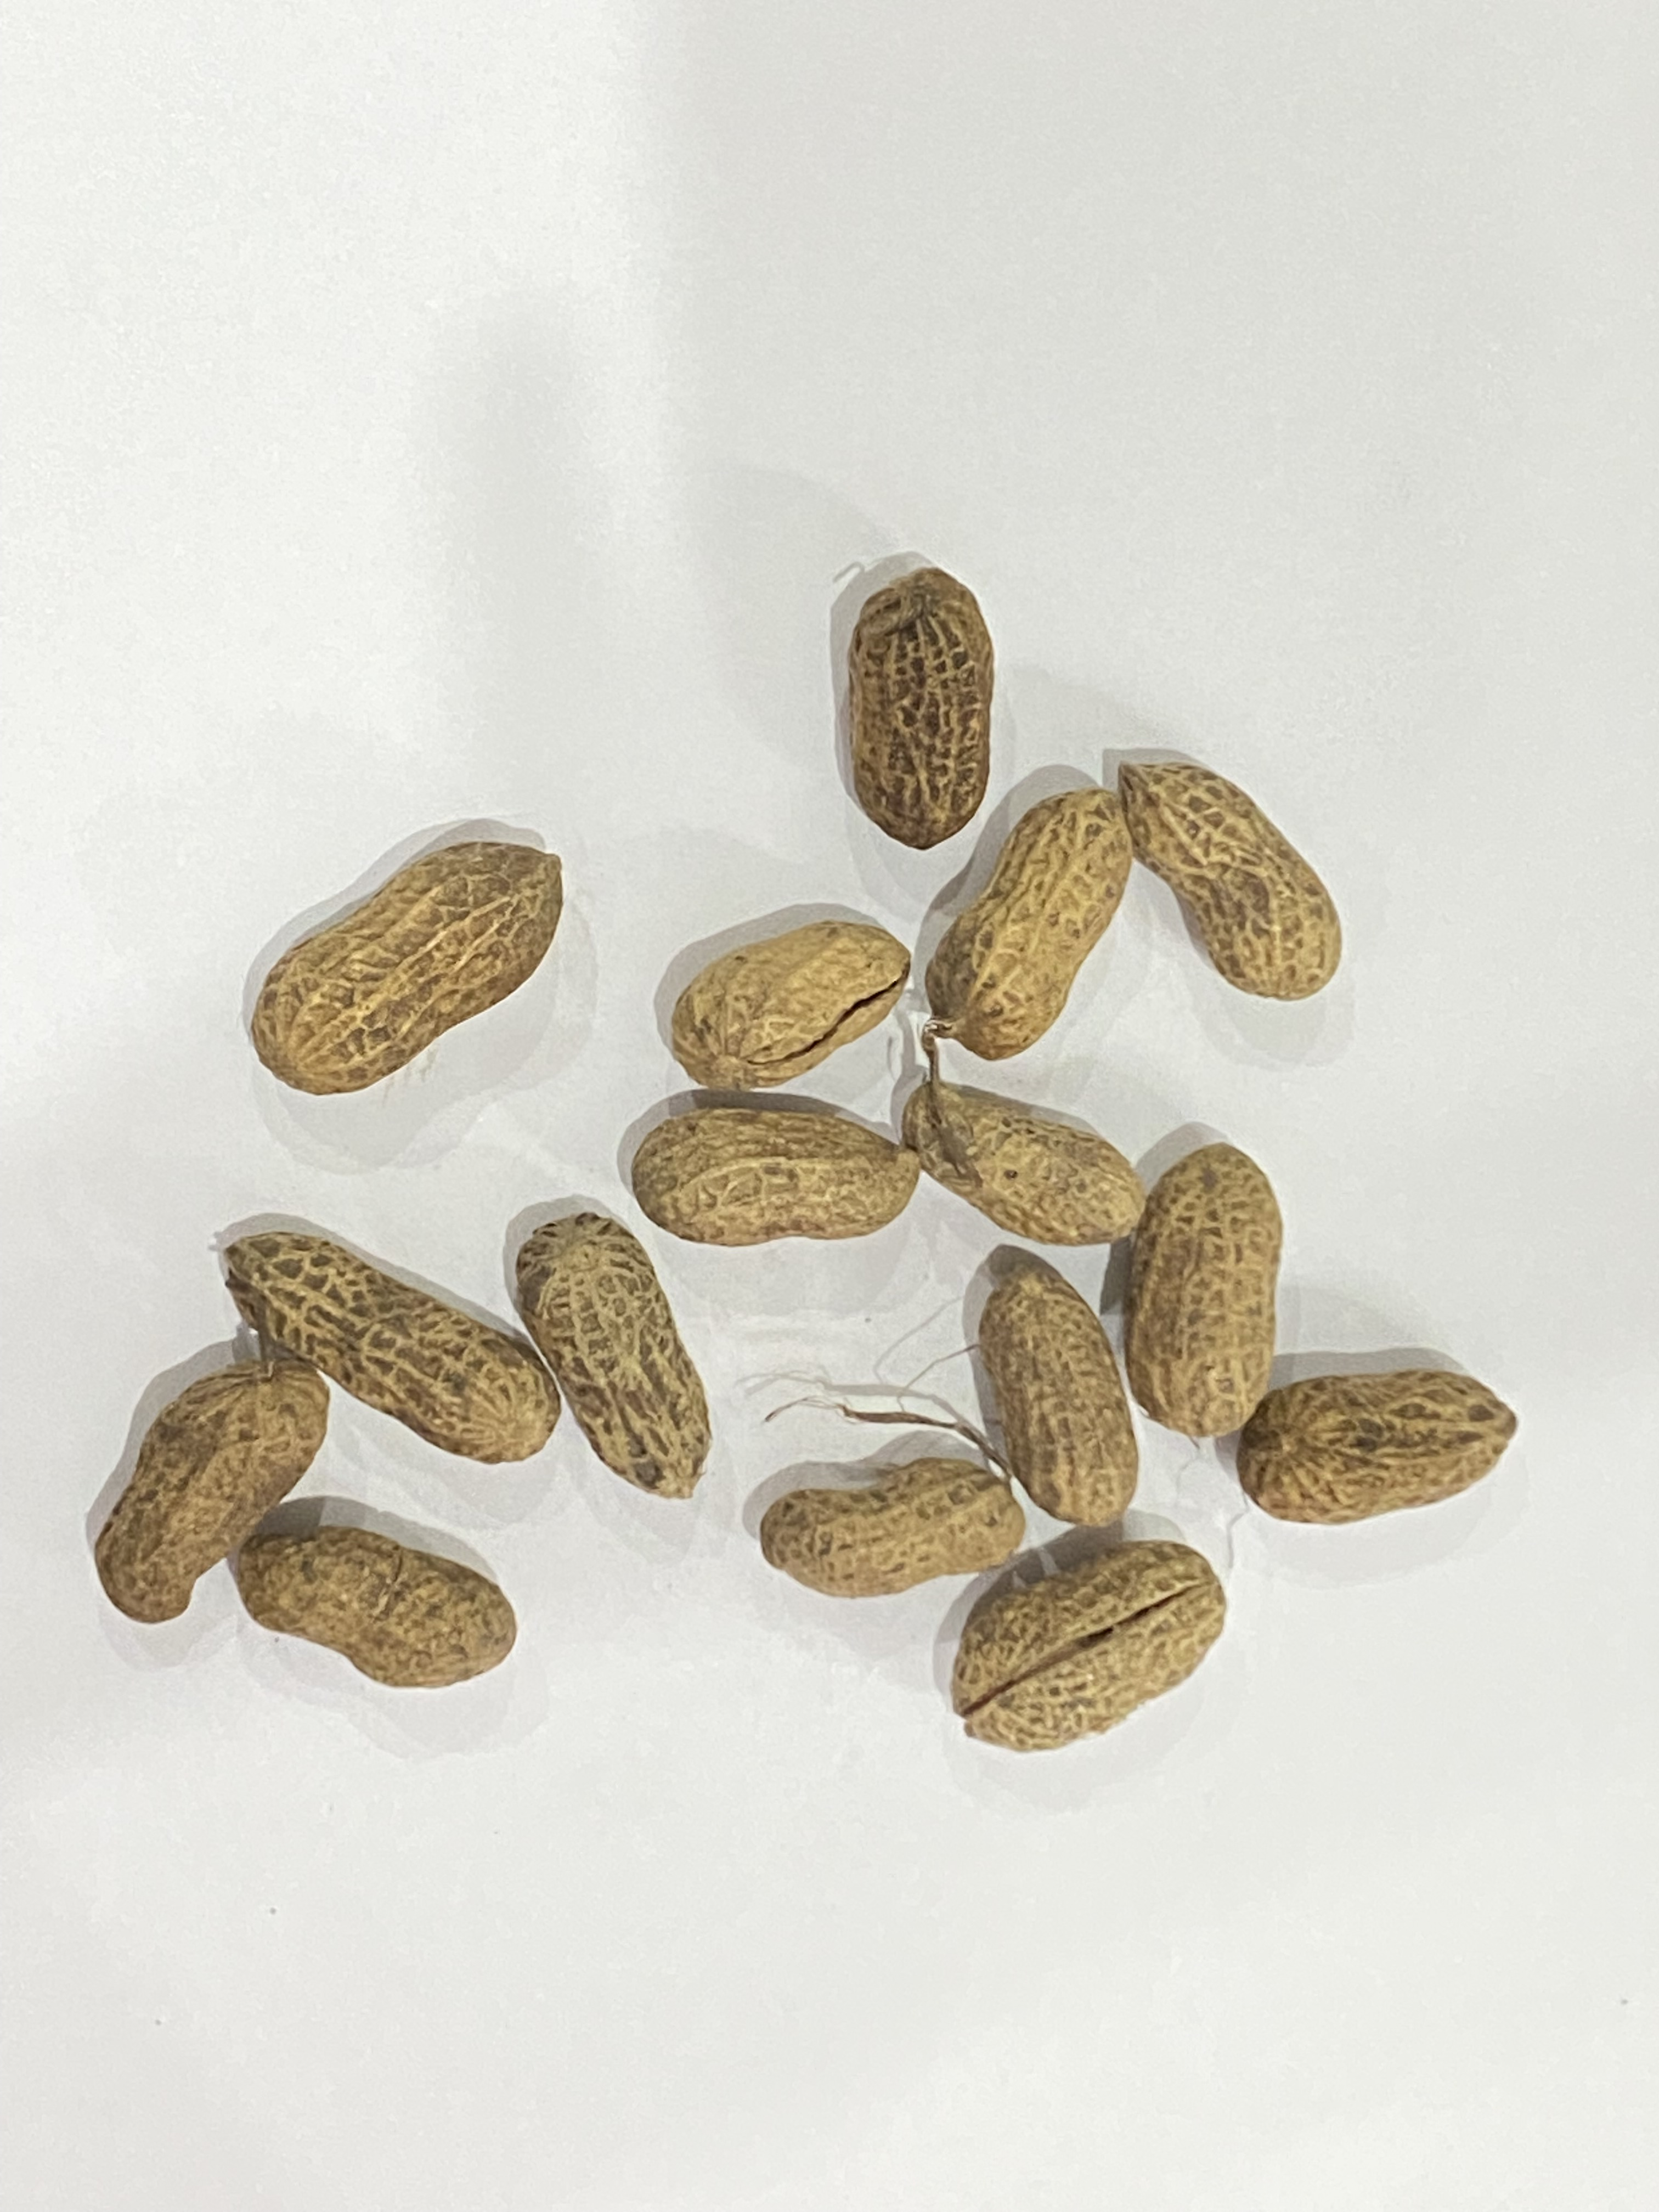kacang2: (247, 841, 570, 1096), (974, 1266, 1141, 1526), (842, 568, 995, 845), (756, 1463, 1032, 1599)
